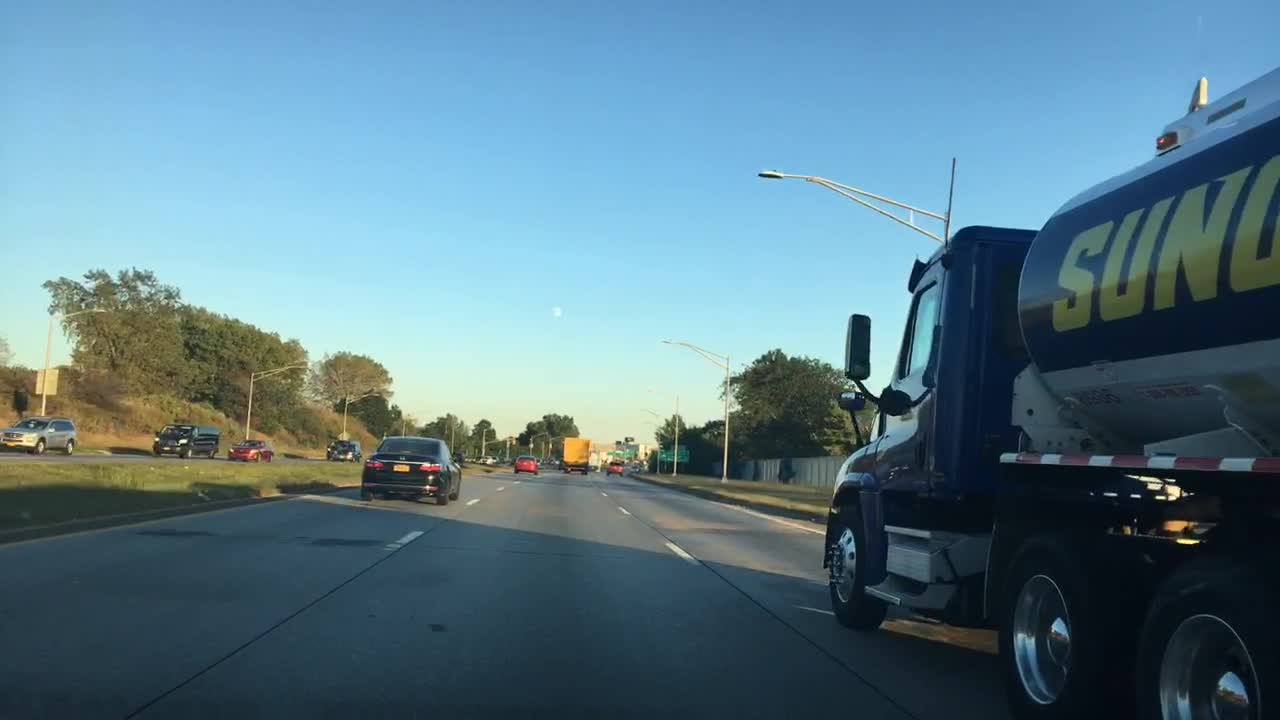car: (358, 433, 461, 503), (0, 415, 76, 456), (152, 423, 220, 458), (226, 437, 272, 461), (330, 440, 360, 463), (513, 453, 538, 474), (607, 458, 623, 477), (325, 439, 335, 460), (533, 456, 542, 468), (630, 465, 642, 472), (557, 459, 564, 471), (472, 455, 482, 462), (489, 455, 499, 462), (633, 460, 642, 466), (541, 457, 547, 465), (549, 457, 556, 462)
traffic sign: (35, 367, 58, 396), (661, 449, 687, 460), (607, 449, 620, 455), (620, 451, 631, 456)
truck: (822, 65, 1278, 718), (563, 436, 591, 474)
